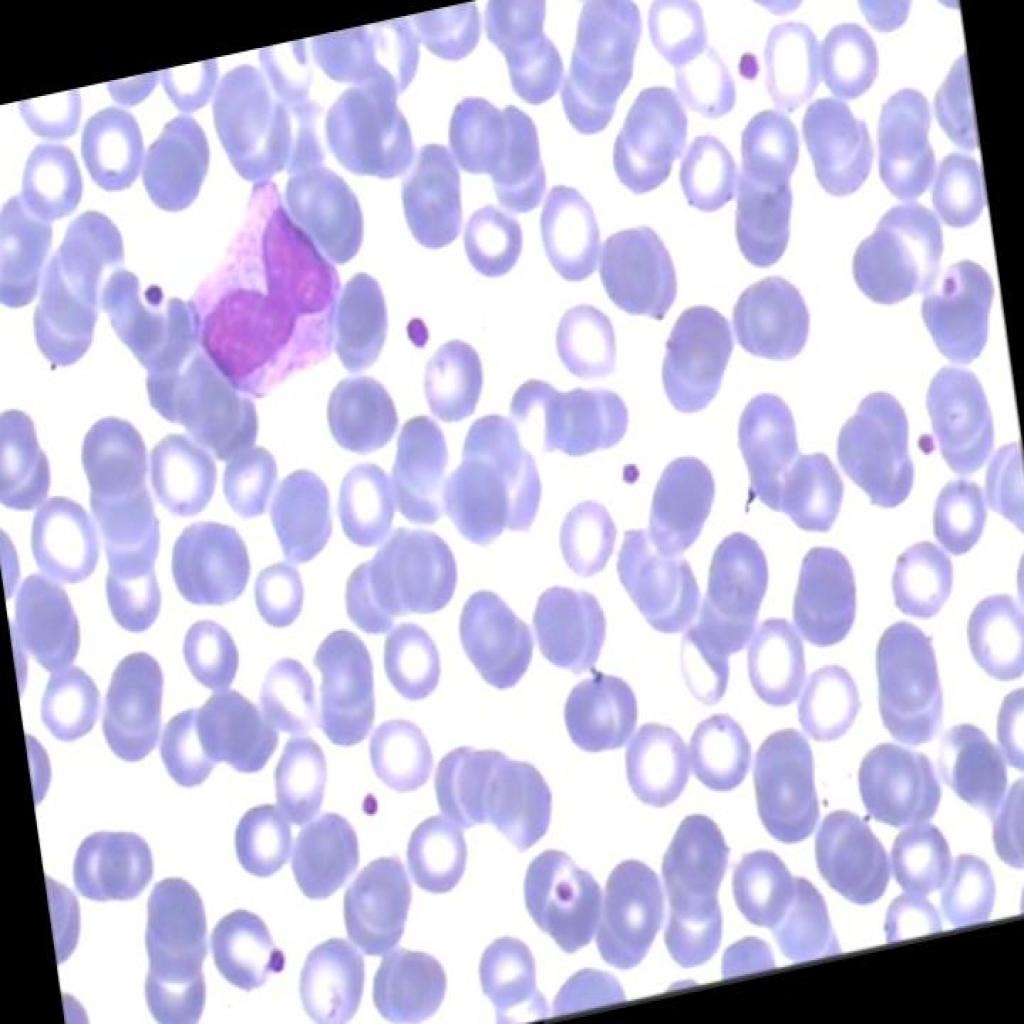Monosit: (175, 162, 354, 414)
Platelet: (388, 294, 435, 356), (342, 782, 392, 838), (727, 26, 765, 98), (130, 262, 166, 318), (928, 252, 966, 302), (609, 448, 644, 500), (257, 935, 286, 994), (907, 418, 943, 462), (548, 870, 576, 916)
